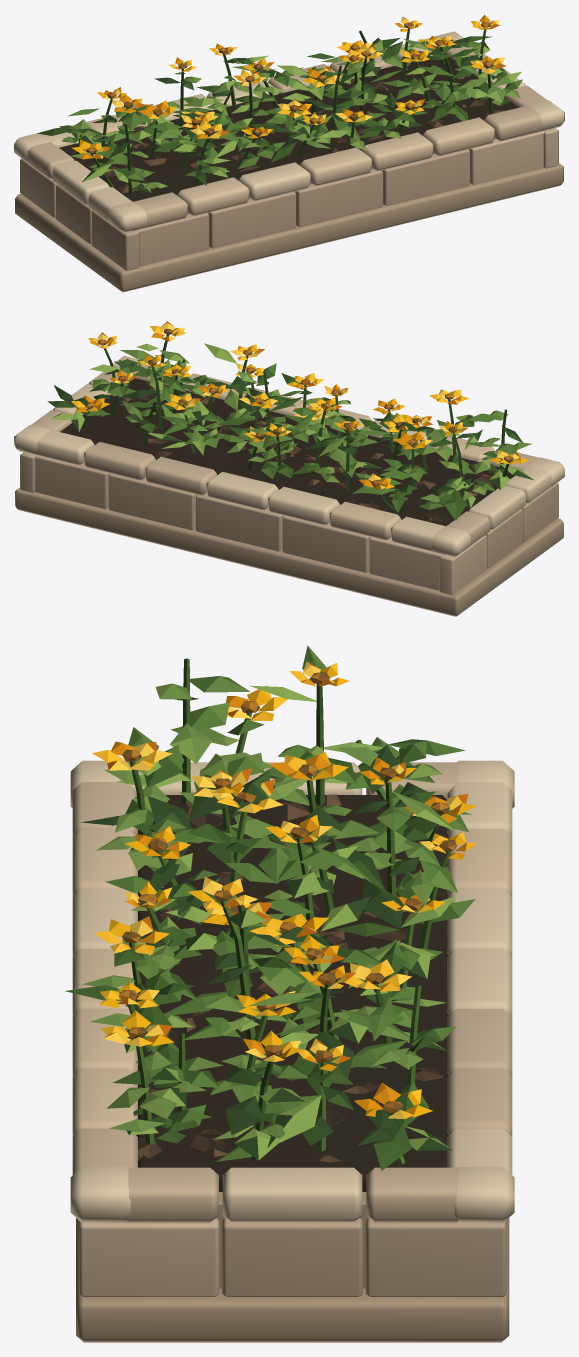
File: wsc-prop-014-planter-bed.glb
The picture shows the model from 3 angles, top to bottom: view 1: azimuth 30°, elevation 25°; view 2: azimuth 150°, elevation 25°; view 3: azimuth 270°, elevation 25°; orthographic projection. The views are drawn at different scales.
Visible parts, largest first — view 1: Planter • masonry course and independent coped rim, Planter • broad serrated-look folded foliage, Planter • golden tickseed blossoms, Planter • resilient stems, Planter • chipped loam and gravel, Planter • contrasting flower discs; view 2: Planter • masonry course and independent coped rim, Planter • broad serrated-look folded foliage, Planter • golden tickseed blossoms, Planter • resilient stems, Planter • chipped loam and gravel, Planter • contrasting flower discs; view 3: Planter • masonry course and independent coped rim, Planter • broad serrated-look folded foliage, Planter • golden tickseed blossoms, Planter • resilient stems, Planter • chipped loam and gravel, Planter • contrasting flower discs.
Boxes of the visible parts, box(x1,y1,x2,y2) form: Planter • masonry course and independent coped rim: box(14, 31, 564, 292); Planter • broad serrated-look folded foliage: box(37, 36, 522, 192); Planter • golden tickseed blossoms: box(72, 14, 506, 159); Planter • resilient stems: box(75, 28, 492, 193); Planter • chipped loam and gravel: box(67, 77, 504, 192); Planter • contrasting flower discs: box(86, 22, 493, 153); Planter • masonry course and independent coped rim: box(14, 356, 564, 616); Planter • broad serrated-look folded foliage: box(47, 343, 533, 520); Planter • golden tickseed blossoms: box(71, 321, 528, 489); Planter • resilient stems: box(81, 334, 509, 510); Planter • chipped loam and gravel: box(95, 382, 494, 522); Planter • contrasting flower discs: box(85, 329, 513, 485); Planter • masonry course and independent coped rim: box(70, 760, 514, 1342); Planter • broad serrated-look folded foliage: box(65, 645, 475, 1170); Planter • golden tickseed blossoms: box(92, 661, 477, 1118); Planter • resilient stems: box(127, 658, 450, 1164); Planter • chipped loam and gravel: box(138, 794, 443, 1162); Planter • contrasting flower discs: box(119, 672, 456, 1112).
Size of the model in its own units: 3.9 by 1.24 by 1.69.
